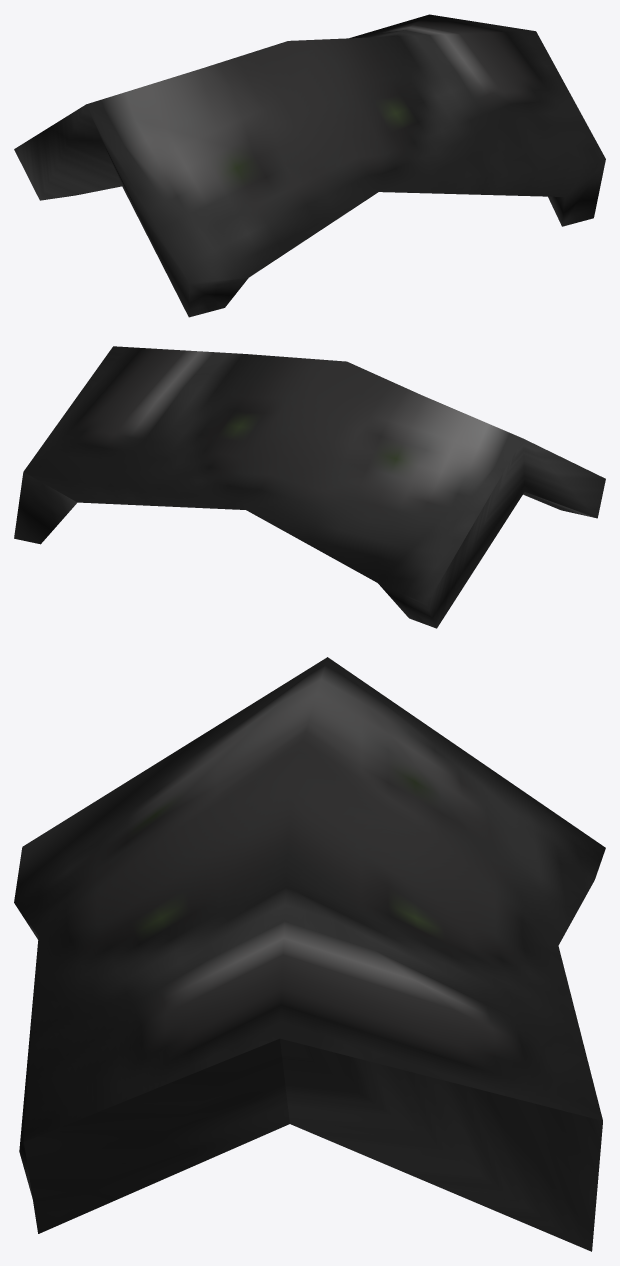
File: Kneepad_Ground_R.fbx
The picture shows the model from 3 angles, top to bottom: view 1: azimuth 30°, elevation 25°; view 2: azimuth 150°, elevation 25°; view 3: azimuth 270°, elevation 25°; orthographic projection. The views are drawn at different scales.
Visible parts, largest first — view 1: Kneepad_Ground_R; view 2: Kneepad_Ground_R; view 3: Kneepad_Ground_R.
Part boxes in pixels (x1,y1,x2,y2): Kneepad_Ground_R: (14,14,605,317); Kneepad_Ground_R: (14,346,605,628); Kneepad_Ground_R: (14,657,605,1251).
Size of the model in its own units: 1.01 by 0.3835 by 0.722.
